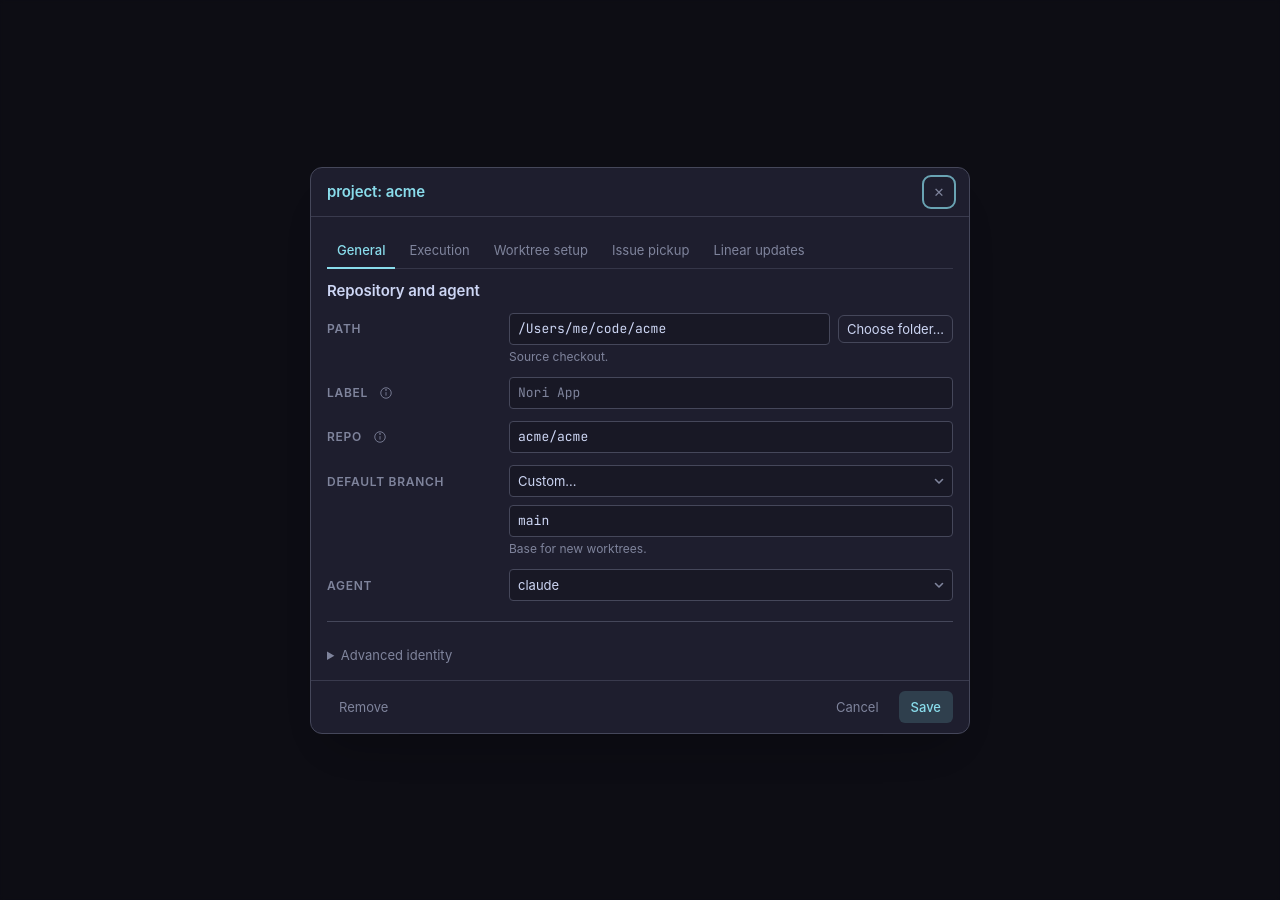
ProjectForm › falls back to raw inputs when Linear metadata is unavailable
Expected: the tab "General" is shown, [327,232,396,268]
What coordinates should you click on to do the following:
click the tab "Issue pickup"
I would click on:
 (651, 250)
Its box is [602,232,699,268].
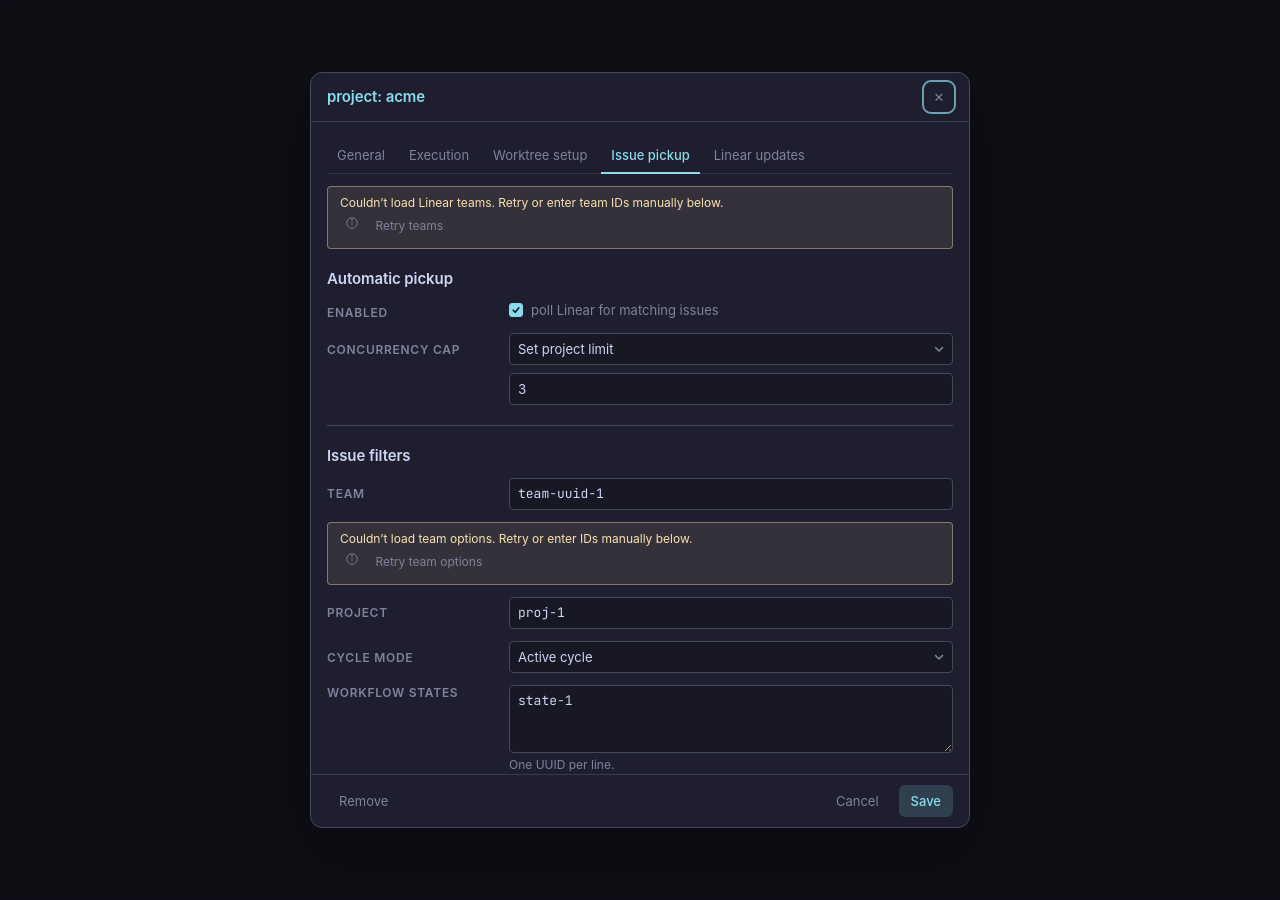
Expected: the field named "team" holds "team-uuid-1", [509,478,953,510]
